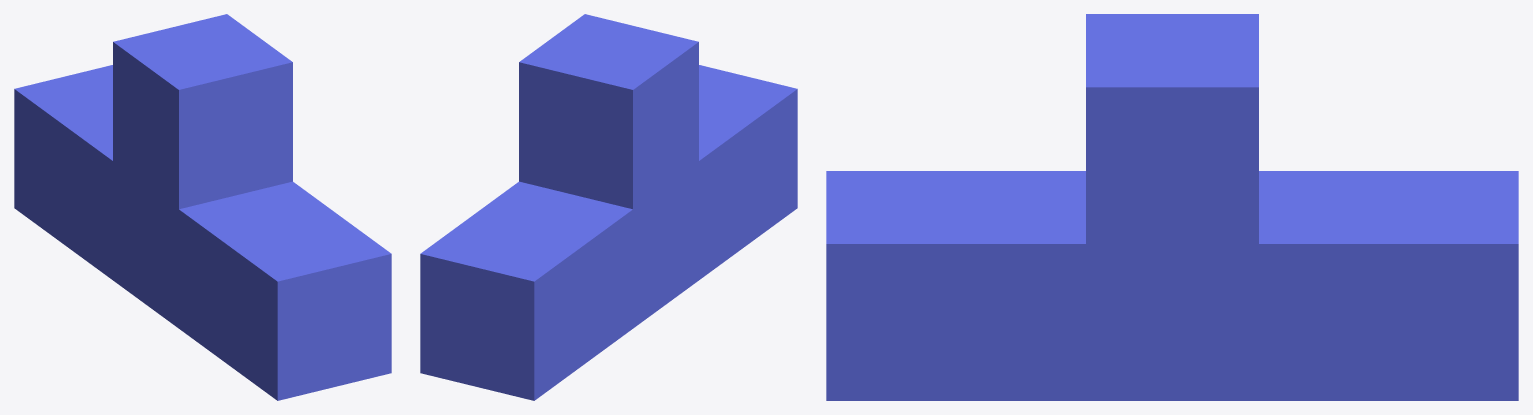
The model's file is navyblue.fbx.
3 renders of one model, left to right at view 1: azimuth 30°, elevation 25°; view 2: azimuth 150°, elevation 25°; view 3: azimuth 270°, elevation 25°, orthographic. The views are drawn at different scales.
Visible parts, largest first — view 1: cube, cube.000; view 2: cube, cube.000; view 3: cube, cube.000.
Part boxes in pixels (x1=…): cube: x1=14, y1=65, x2=391, y2=400; cube.000: x1=113, y1=14, x2=292, y2=209; cube: x1=420, y1=65, x2=797, y2=400; cube.000: x1=519, y1=14, x2=698, y2=209; cube: x1=826, y1=171, x2=1518, y2=400; cube.000: x1=1086, y1=14, x2=1258, y2=243.
Size of the model in its own units: 12.5 by 25 by 50.
